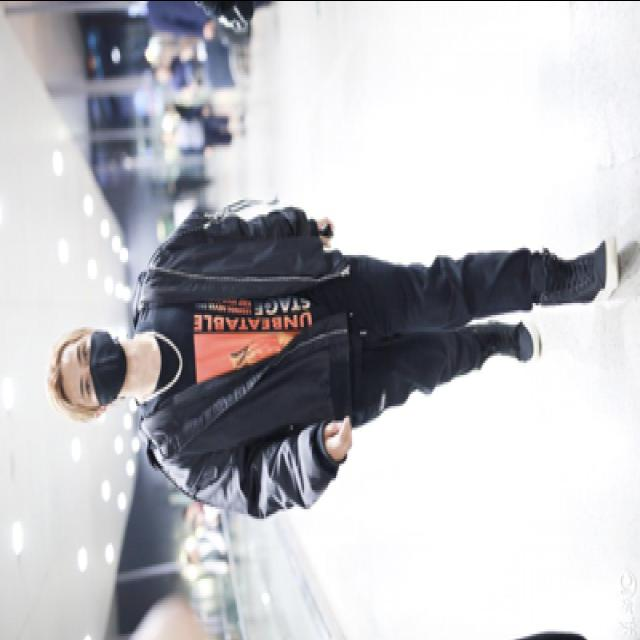with_mask: (72, 330, 126, 408)
